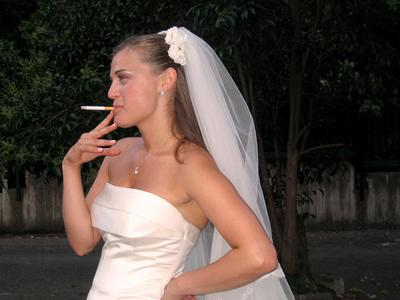person: (59, 24, 280, 300)
